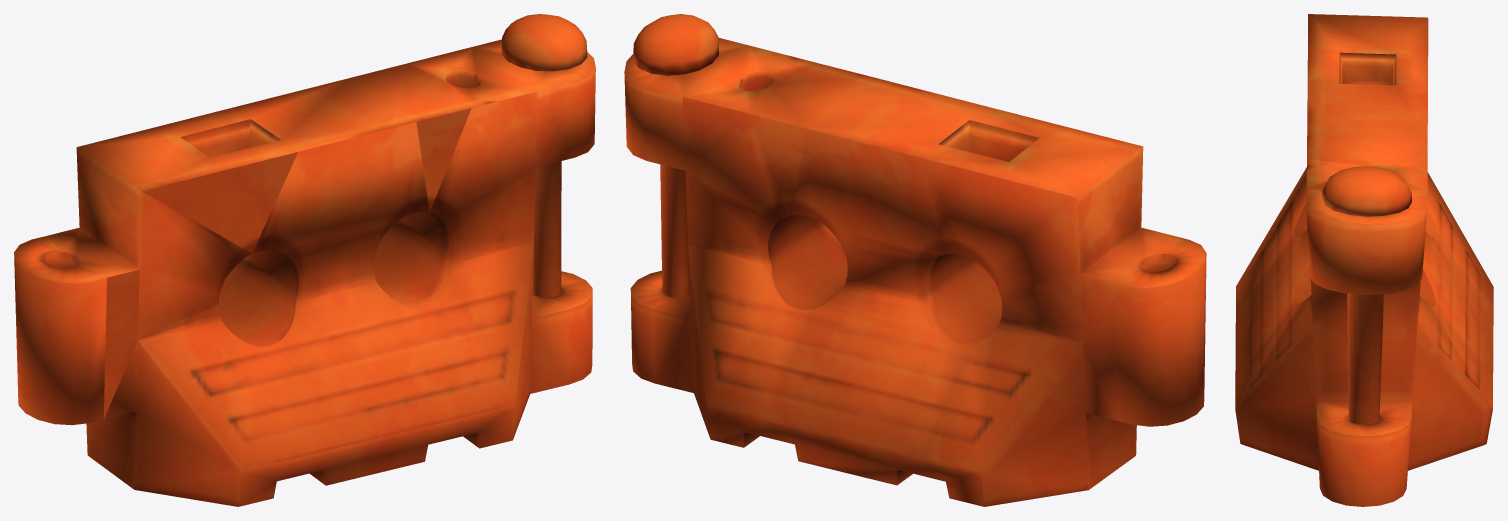
Rendered from nc_prop_barricade_b_01.fbx.
3 views of the same model, side by side, from view 1: azimuth 30°, elevation 25°; view 2: azimuth 150°, elevation 25°; view 3: azimuth 270°, elevation 25° (orthographic). The views are drawn at different scales.
Visible parts, largest first — view 1: nc_prop_barricade_b_01_LOD0; view 2: nc_prop_barricade_b_01_LOD0; view 3: nc_prop_barricade_b_01_LOD0.
Boxes of the visible parts, x1,y1,x2,y2 form: nc_prop_barricade_b_01_LOD0: [14, 14, 595, 506]; nc_prop_barricade_b_01_LOD0: [624, 14, 1206, 506]; nc_prop_barricade_b_01_LOD0: [1235, 14, 1493, 506].
Size of what is drawn, in the model's own units: 1.77 by 1.04 by 0.7695.
Materials: 1 (1 with a texture image).
